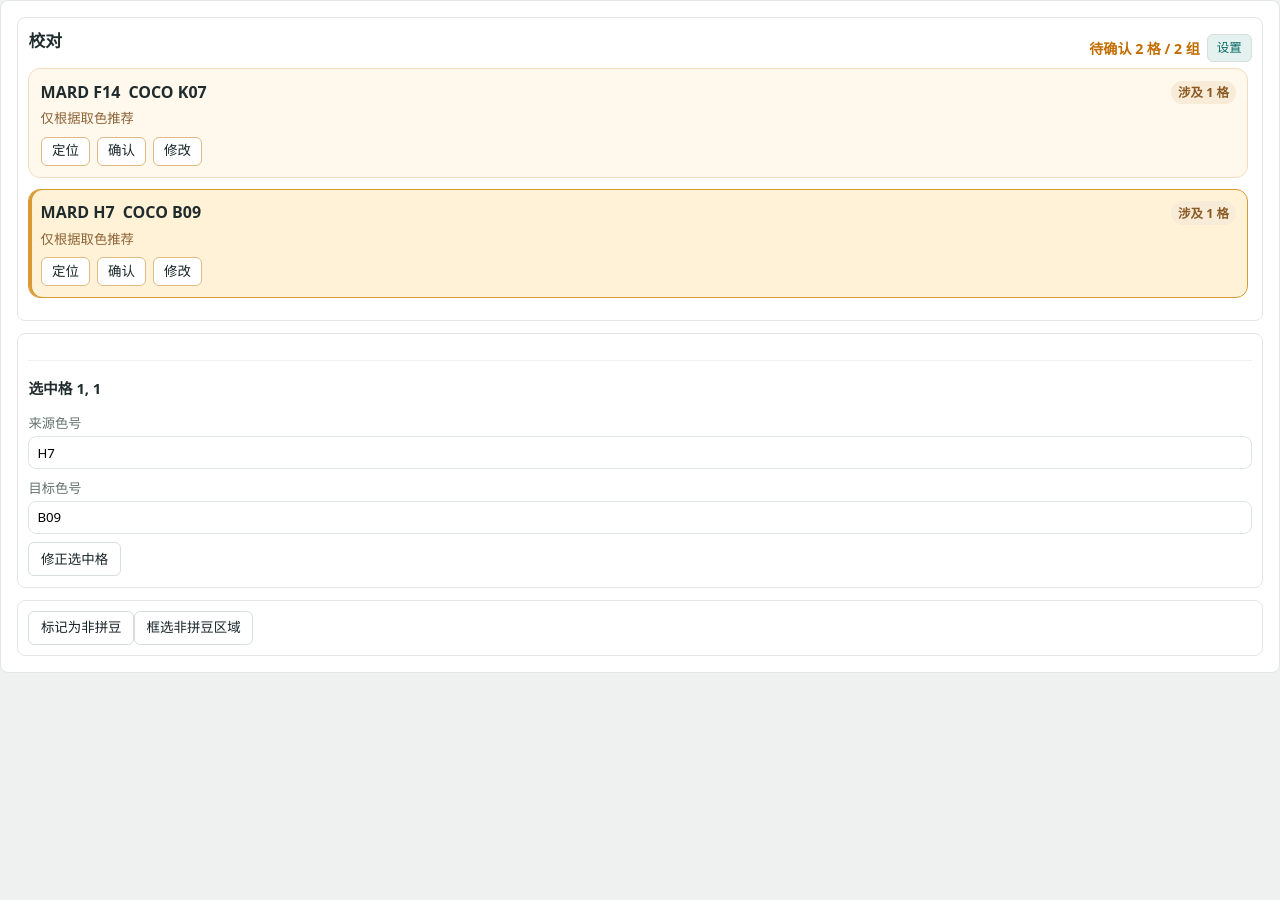
it: hides candidate controls when selection moves away from the edited review group
Click the button "修改" below "H7" at (178, 272), box [153,257,202,286]
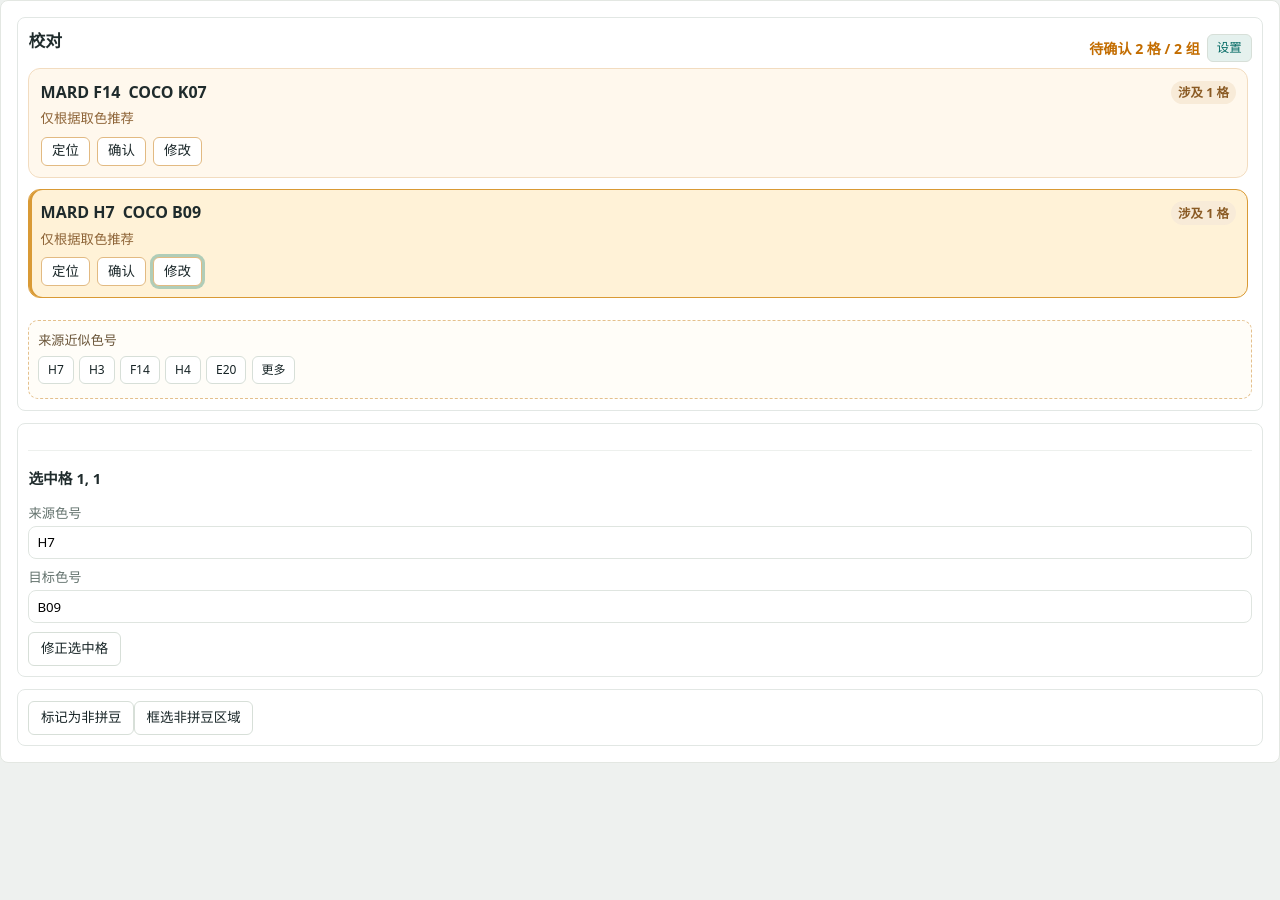
Check: the element named "近似色号候选" is shown, box [28,320,1252,399]
Click the button "定位" below "K07" at (65, 151), box [41,137,90,166]
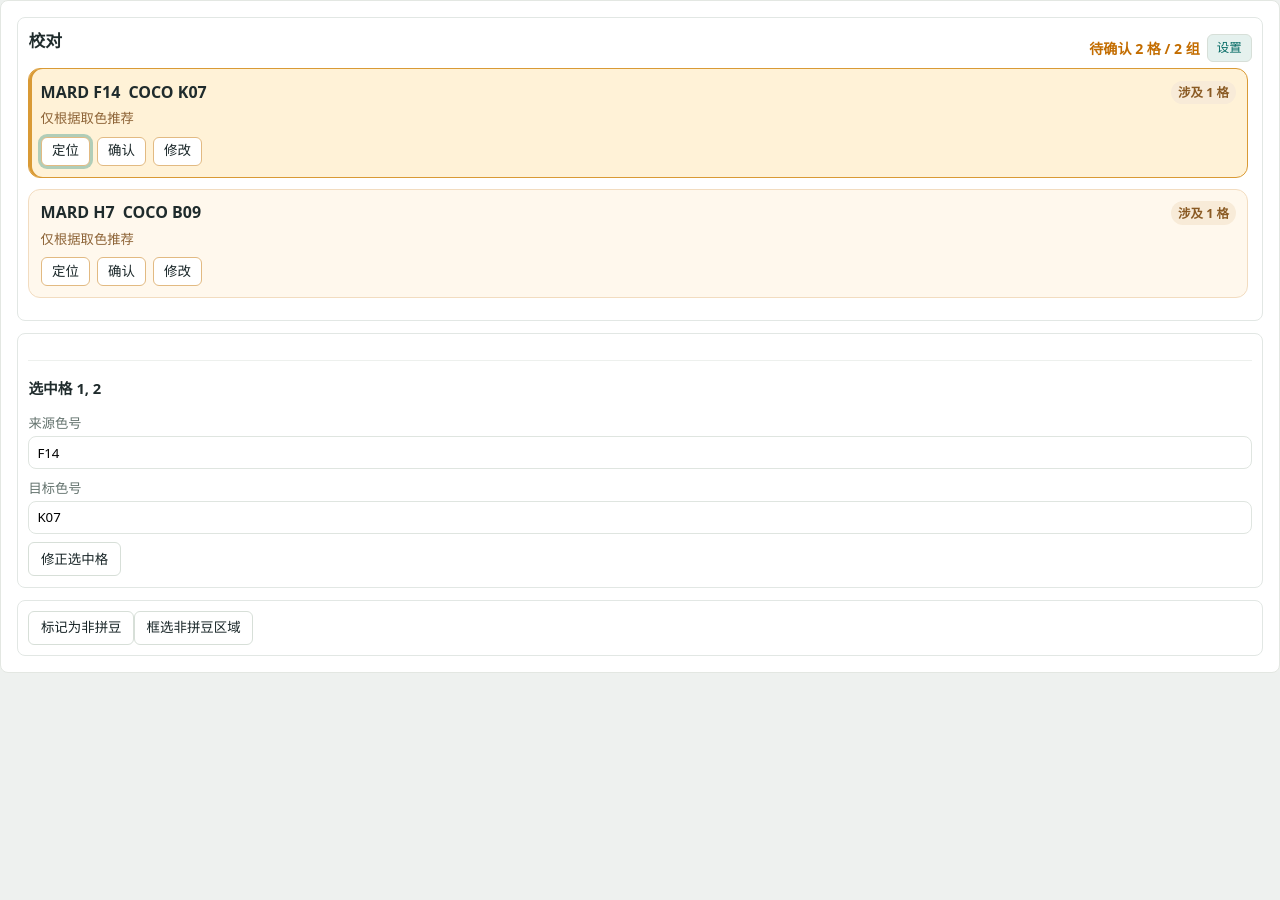
Check: the heading "选中格 1, 2" is shown, box [28,378,101,398]
Check: the field labelled "近似色号候选" is gone
